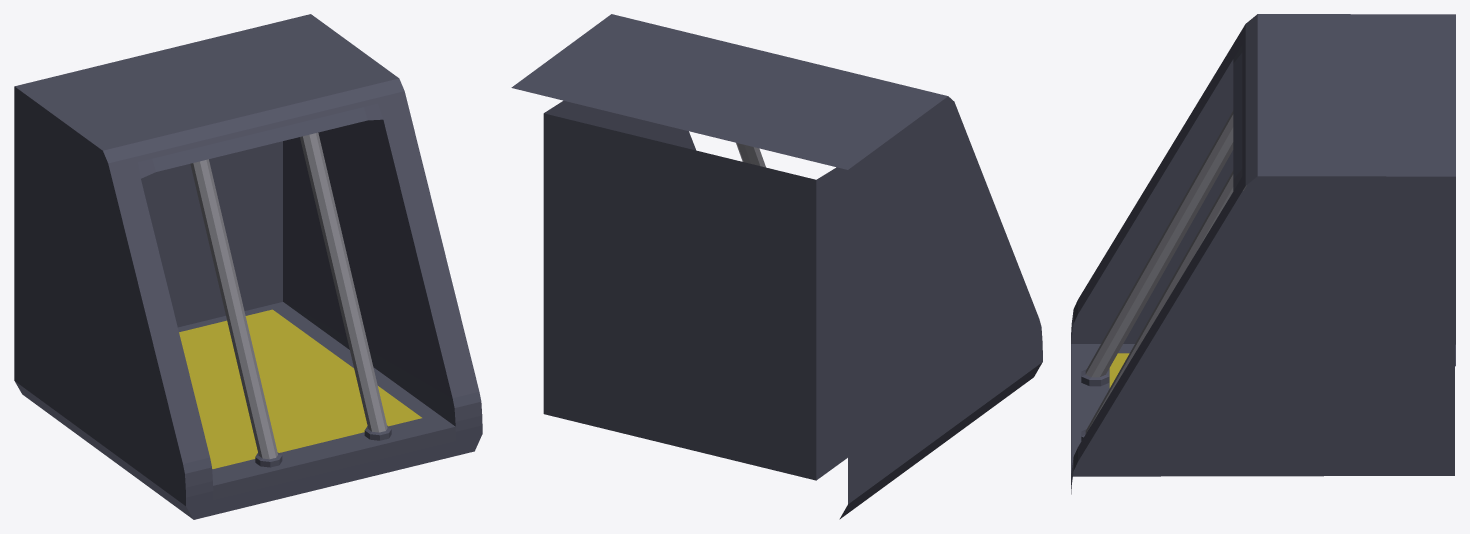
Rendered from LeftSideCage.fbx.
3 views of the same model, side by side, from view 1: azimuth 30°, elevation 25°; view 2: azimuth 150°, elevation 25°; view 3: azimuth 270°, elevation 25° (orthographic). The views are drawn at different scales.
Visible parts, largest first — view 1: AllFacesCage; view 2: AllFacesCage; view 3: AllFacesCage.
Part boxes in pixels (x1,y1,x2,y2): AllFacesCage: [14, 14, 482, 519]; AllFacesCage: [511, 14, 1042, 519]; AllFacesCage: [1071, 14, 1455, 494].
Size of the model in its own units: 100 by 100 by 100.
